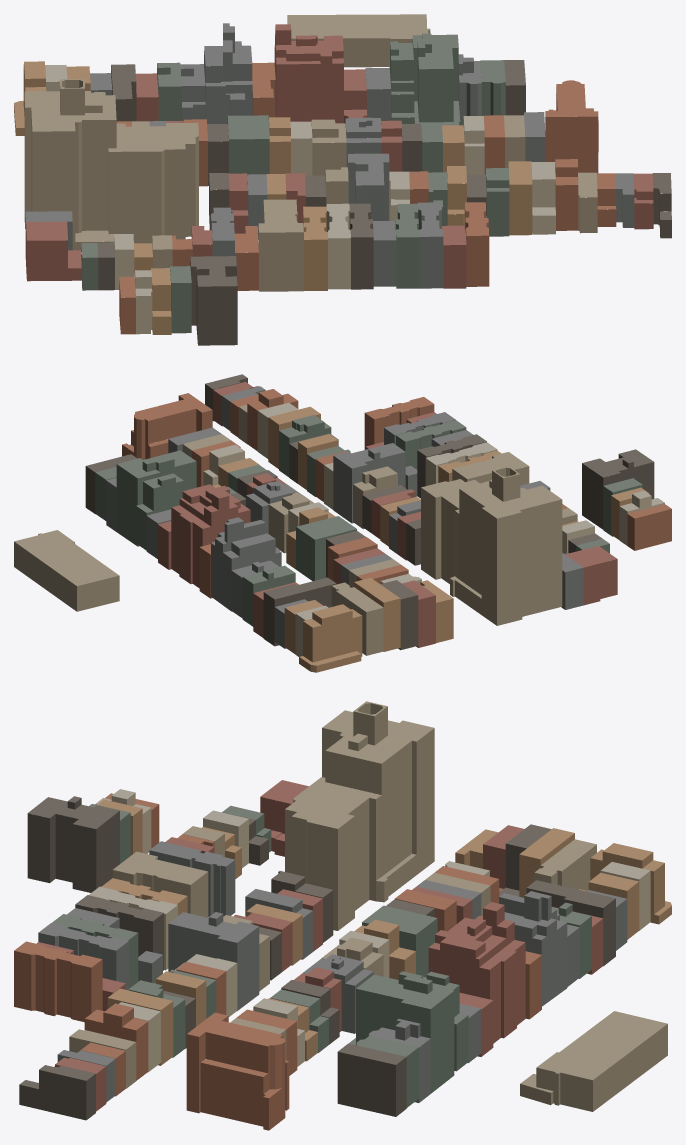
Rendered from tile--2_-9.glb.
3 renders of one model, top to bottom at view 1: azimuth 30°, elevation 25°; view 2: azimuth 150°, elevation 25°; view 3: azimuth 270°, elevation 25°, orthographic. The views are drawn at different scales.
Visible parts, largest first — view 1: wall, roof; view 2: wall, roof; view 3: wall, roof.
Boxes of the visible parts, x1=… form: wall: x1=14, y1=28, x2=671, y2=345; roof: x1=14, y1=14, x2=671, y2=316; wall: x1=14, y1=378, x2=671, y2=672; roof: x1=14, y1=374, x2=671, y2=665; wall: x1=14, y1=703, x2=671, y2=1130; roof: x1=14, y1=701, x2=671, y2=1098.
Size of the model in its own units: 216 by 55.32 by 197.
